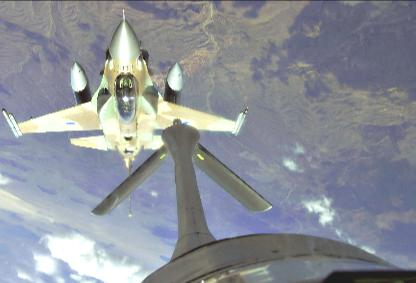F14: (2, 8, 250, 216)
